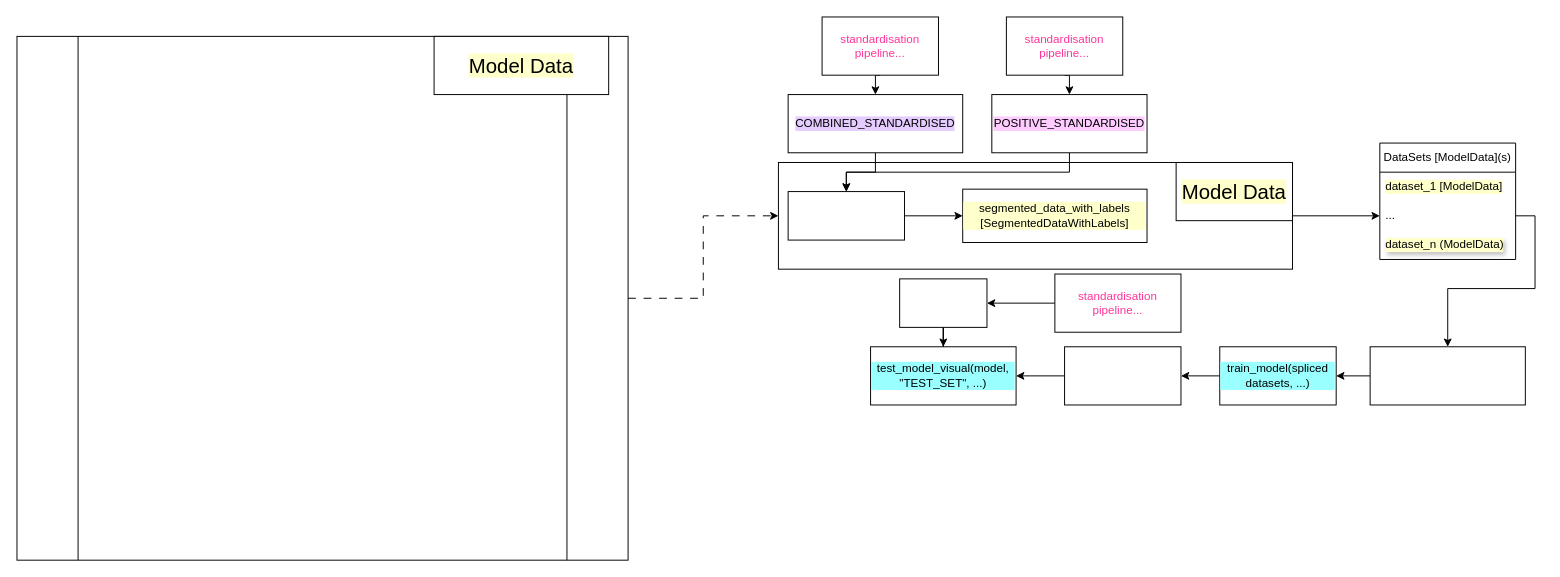
This 1560x577 diagram has some shape labels left out. Here are the shapes that lost their labels. From the top down, the centre of each, then its label:
the point at 846,215: data_with_labels [DataWithLabels]
the point at 943,302: TEST_SET
the point at 1122,375: model [SimpleUnet]
the point at 1447,375: spliced_datasets [SegmentedDataWithLabels]
